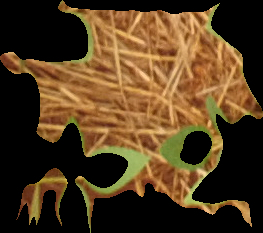soil: (1, 1, 260, 233)
